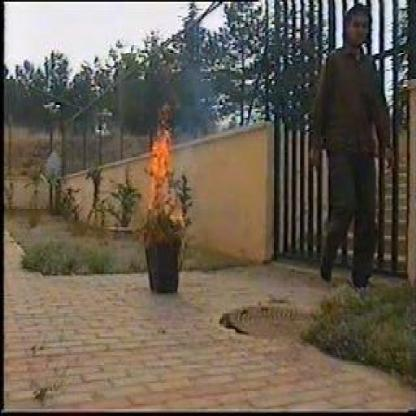-: (178, 68, 209, 178)
foggia-v2-map80-epoch100 - v1 4323: (146, 119, 167, 218)
